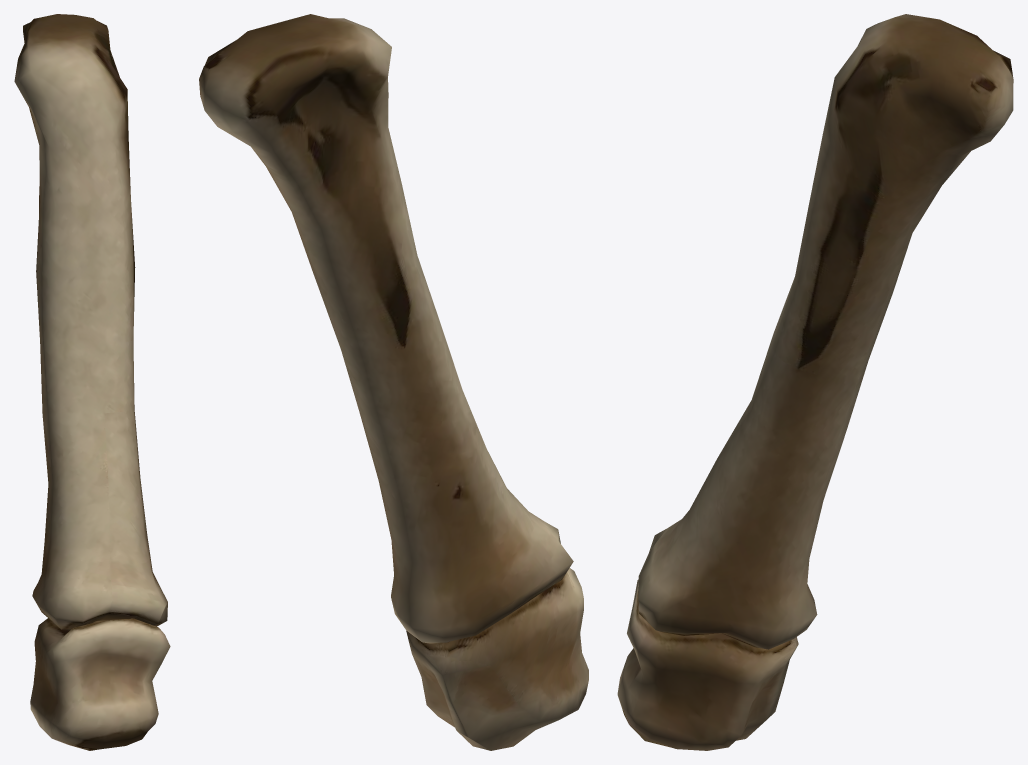
File: Metacarpal_IV.glb
3 views of the same model, side by side, from view 1: azimuth 30°, elevation 25°; view 2: azimuth 150°, elevation 25°; view 3: azimuth 270°, elevation 25° (orthographic). The views are drawn at different scales.
Parts seen in each view (by area): view 1: Metacarpal_IV_Right1:Group9706; view 2: Metacarpal_IV_Right1:Group9706; view 3: Metacarpal_IV_Right1:Group9706.
Boxes of the visible parts, <box> form: Metacarpal_IV_Right1:Group9706: <box>14,14,170,750</box>; Metacarpal_IV_Right1:Group9706: <box>199,14,588,750</box>; Metacarpal_IV_Right1:Group9706: <box>617,14,1013,750</box>.
Size of the model in its own units: 15.69 by 52.55 by 25.16.
Materials: 1 (1 with a texture image).
